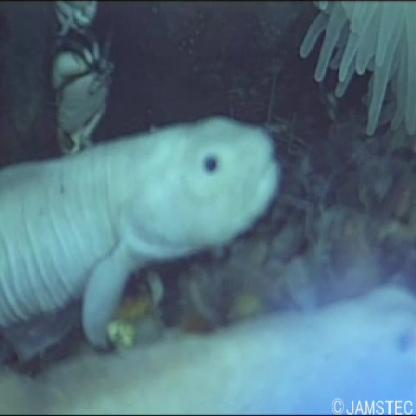Bio: (1, 105, 287, 357)
